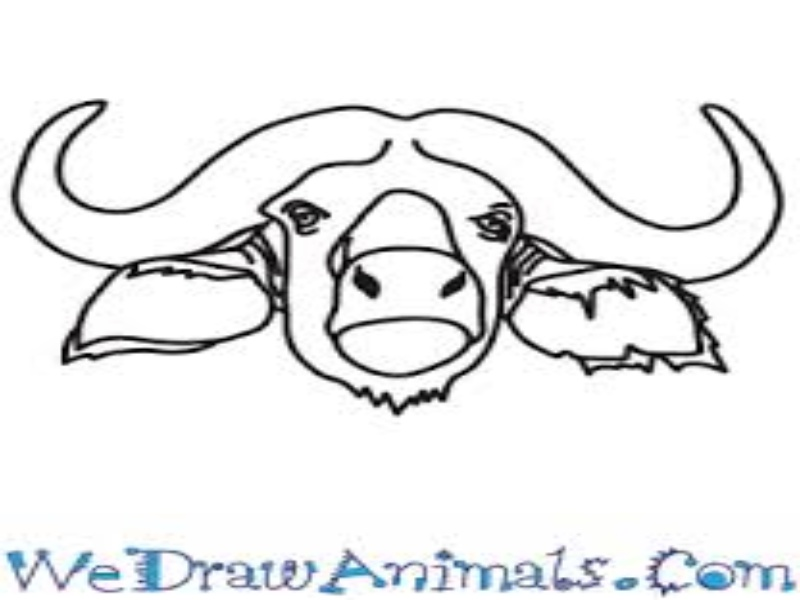buffalo: (10, 82, 796, 442)
